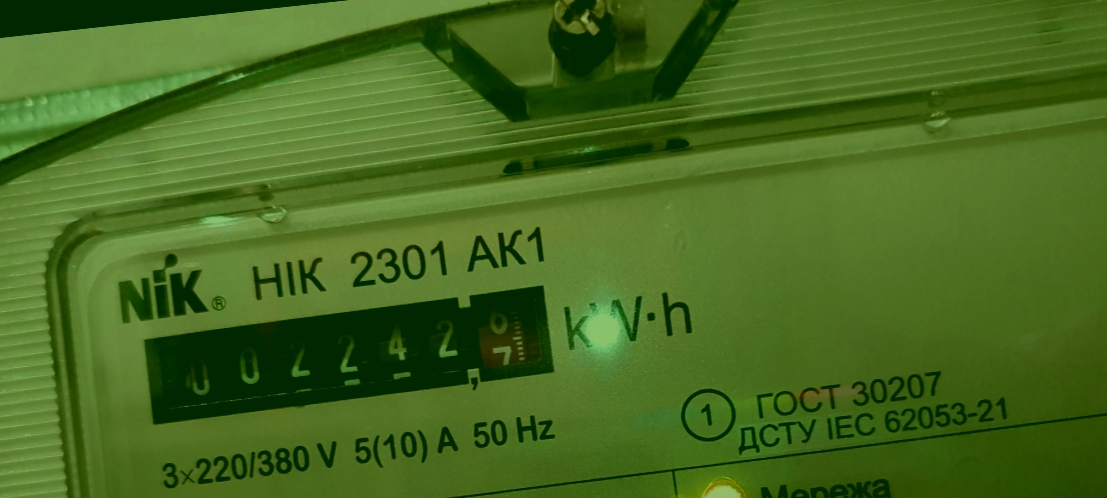0: (234, 342, 263, 387), (285, 335, 313, 380), (186, 353, 213, 399)
2: (431, 315, 461, 361), (334, 330, 362, 376)
4: (382, 319, 410, 365)
6: (485, 301, 512, 337)
7: (490, 343, 515, 368)
screen: (131, 273, 574, 441)
